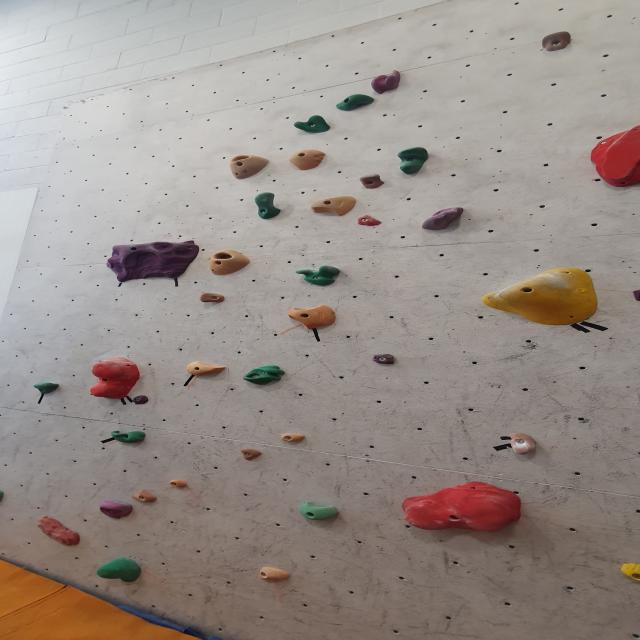Crimp: (104, 242, 200, 284), (184, 360, 229, 376), (257, 565, 293, 584), (617, 562, 640, 584), (237, 448, 266, 462), (354, 214, 382, 227), (279, 432, 308, 443), (167, 480, 190, 490)
Jug: (394, 146, 434, 176), (298, 501, 344, 522), (296, 267, 342, 288), (251, 191, 283, 220), (504, 433, 540, 458), (538, 30, 574, 53), (334, 94, 378, 112), (290, 115, 333, 133), (109, 430, 148, 444), (357, 172, 385, 190), (198, 290, 230, 305), (32, 381, 62, 396), (370, 353, 400, 366)
Pinch: (286, 306, 339, 332), (420, 206, 468, 230), (309, 196, 360, 218), (367, 70, 406, 94), (127, 488, 162, 504)
Pocket: (226, 155, 274, 182), (206, 249, 252, 276), (242, 365, 284, 385)
Sloper: (482, 269, 602, 327), (400, 484, 522, 532), (590, 130, 640, 190), (88, 356, 142, 399), (35, 516, 84, 547), (95, 558, 144, 584), (286, 149, 329, 171), (96, 500, 134, 520)
